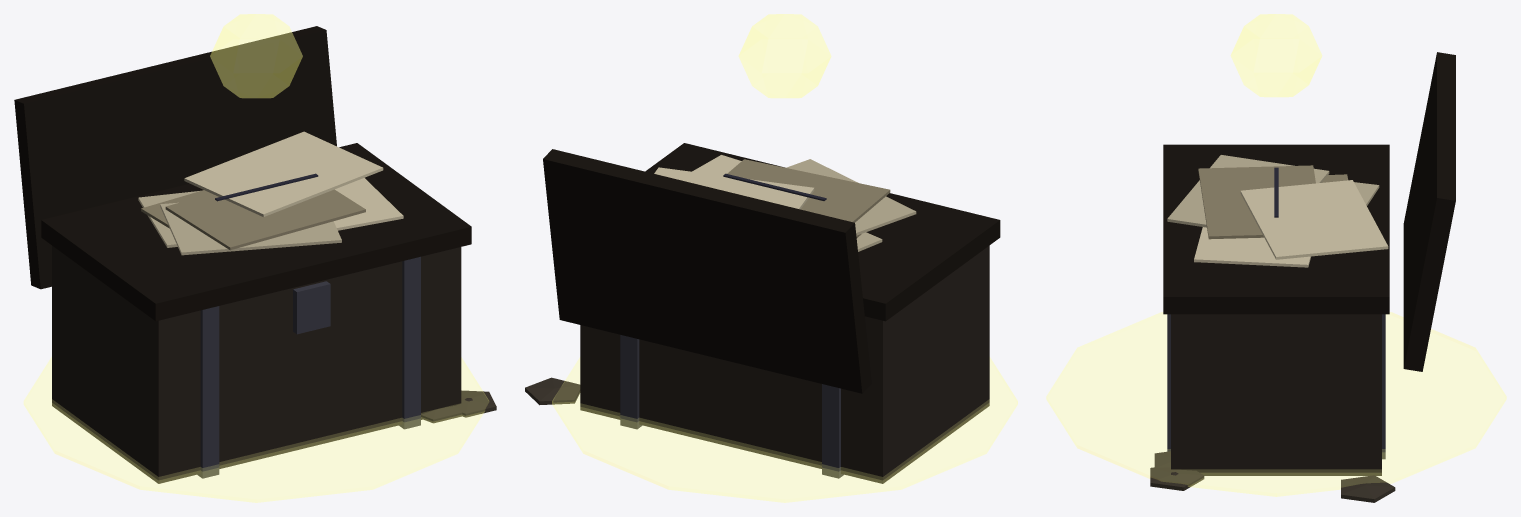
File: prop_burnt_docbox.glb
3 renders of one model, left to right at view 1: azimuth 30°, elevation 25°; view 2: azimuth 150°, elevation 25°; view 3: azimuth 270°, elevation 25°, orthographic.
Visible parts, largest first — view 1: prop_burnt_docbox, Glow; view 2: prop_burnt_docbox, Glow; view 3: prop_burnt_docbox, Glow.
Boxes of the visible parts, x1,y1,x2,y2 form: prop_burnt_docbox: (14,26,496,483); Glow: (24,14,488,502); prop_burnt_docbox: (525,143,1000,483); Glow: (552,14,1017,502); prop_burnt_docbox: (1150,52,1455,502); Glow: (1046,14,1506,496).
Size of the model in its own units: 1.23 by 1.13 by 1.2.
